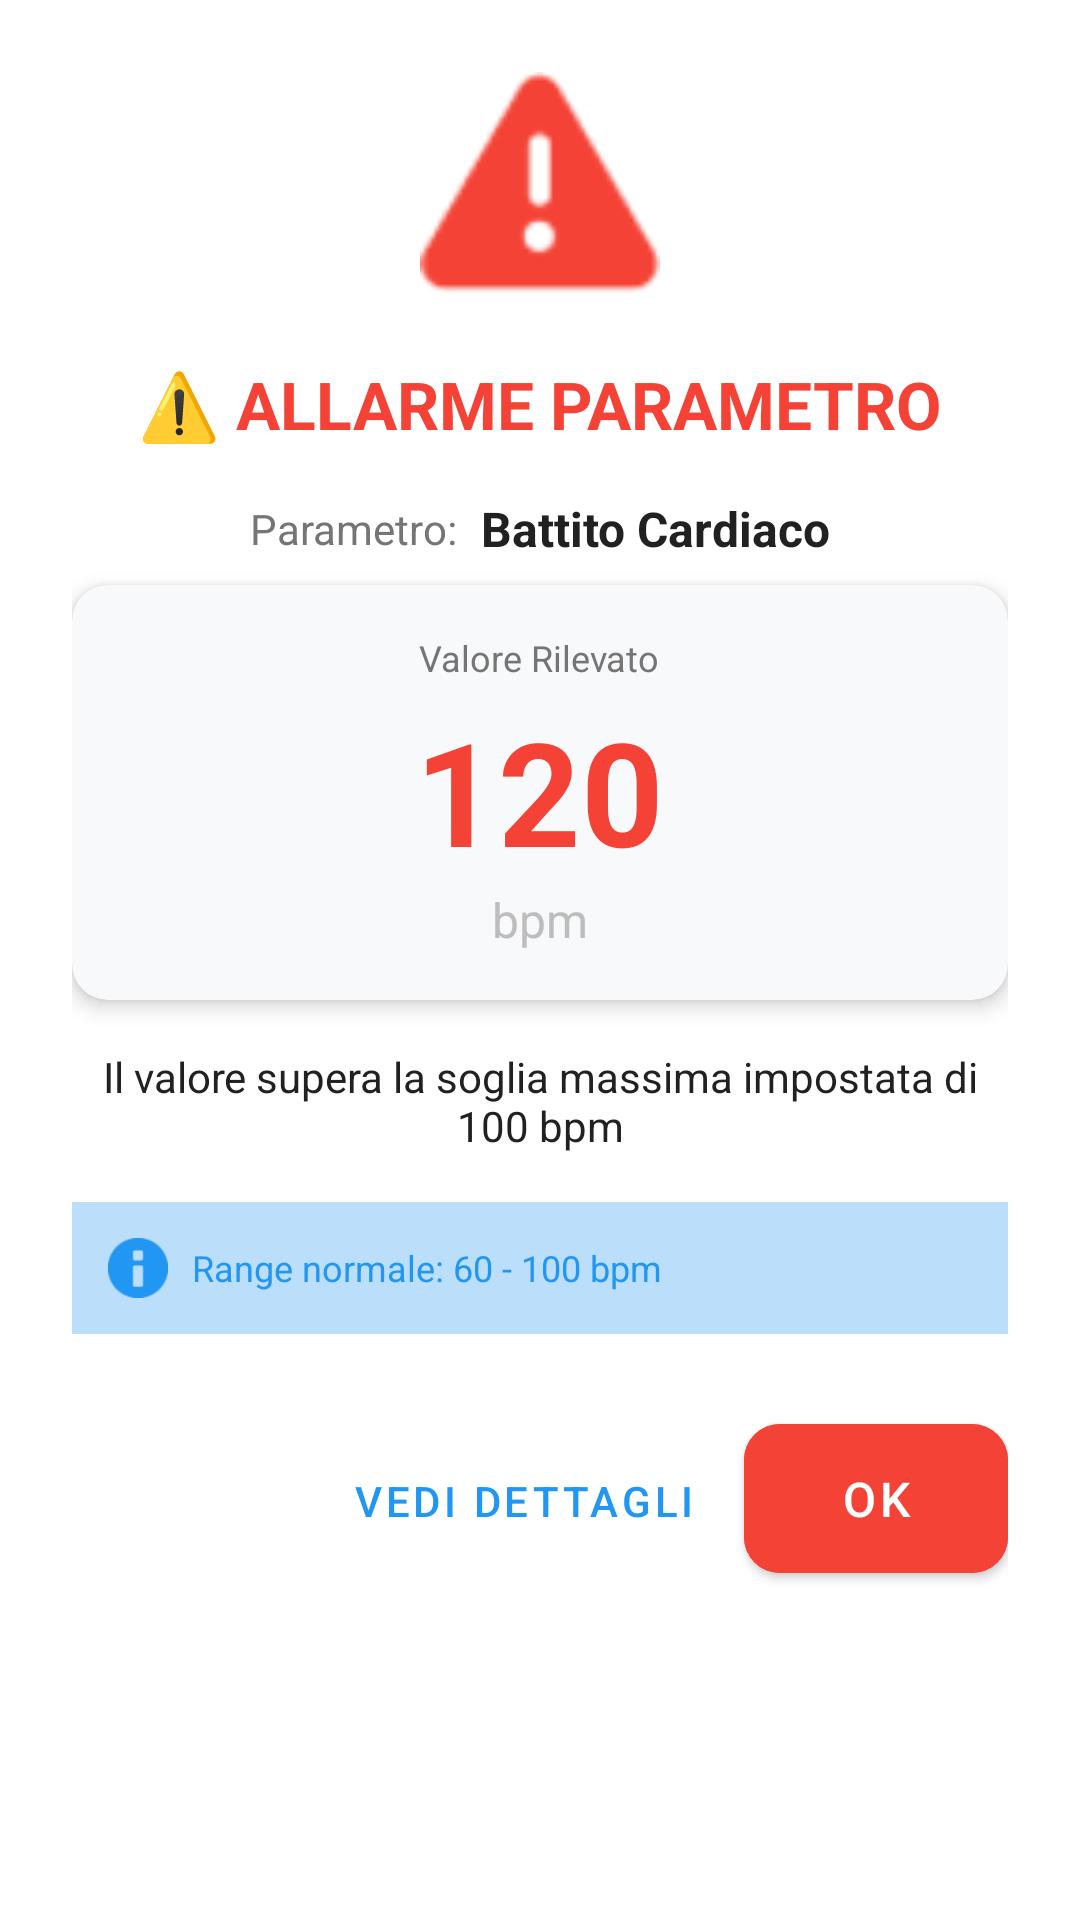

Where to tap for icons on this 1080 × 1920 app screen, as (x=x, y=y):
alert: (x=540, y=181)
info: (x=138, y=1268)
